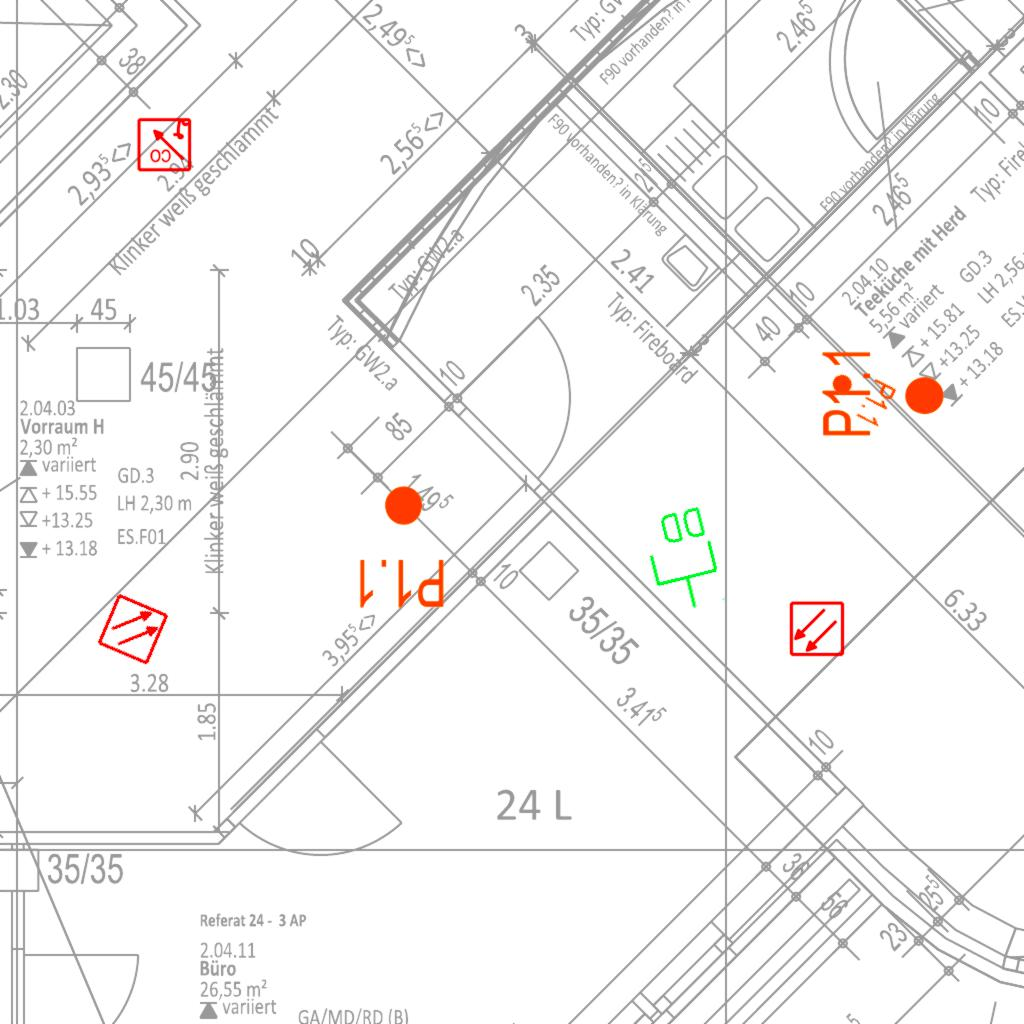Datenanschluss_zweifach: (637, 501, 730, 618)
Downlight_LED_Einbauleuchten_Flur: (354, 483, 447, 611), (819, 346, 947, 439), (821, 359, 899, 431)
RMO_Rauchmelder_optischer: (96, 592, 170, 666), (789, 601, 845, 657)
ROA_Rauchmelder_optisch_mit_Signalgeber_(Sockelsirene): (136, 116, 192, 172)
